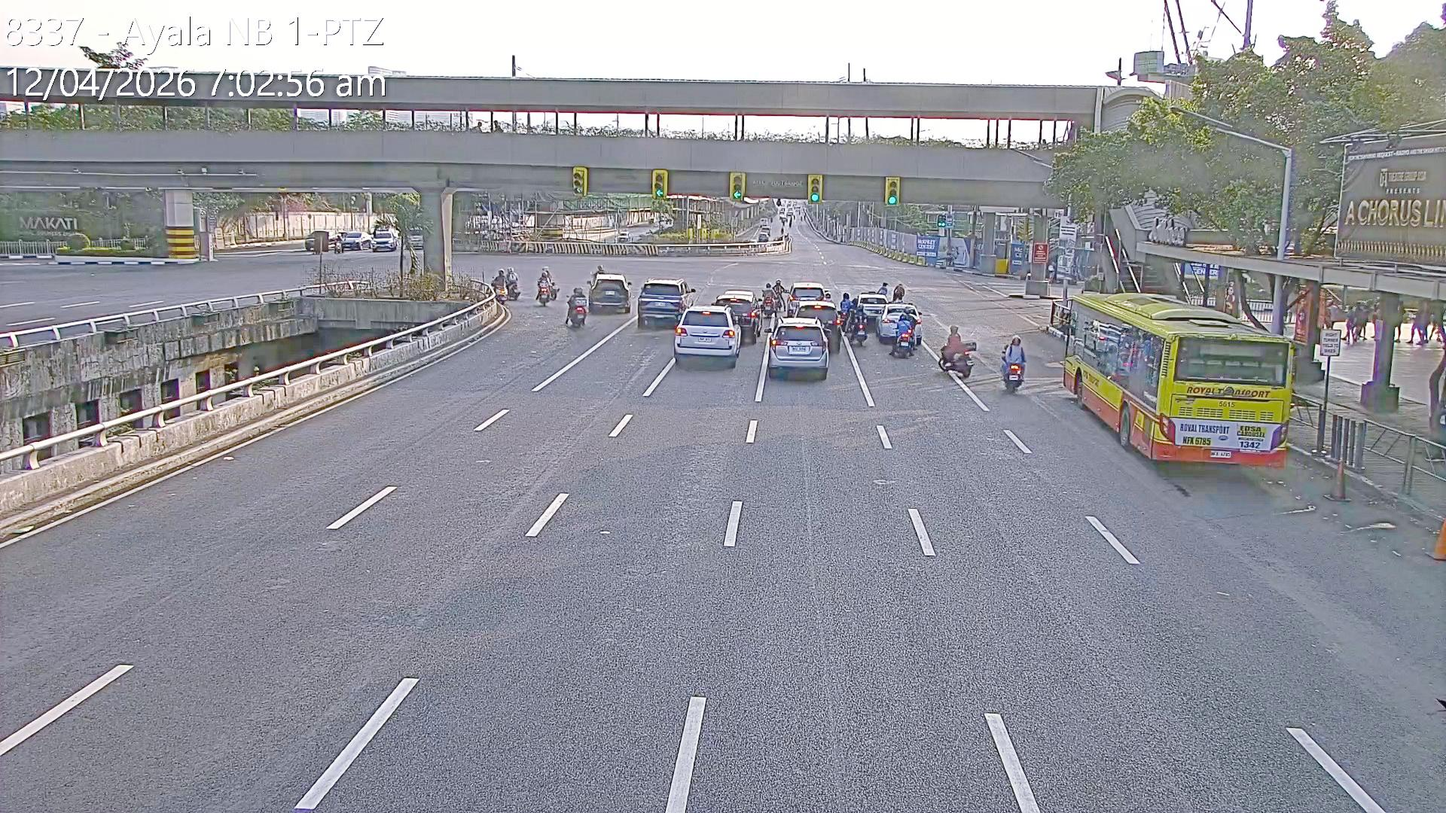Car: (673, 304, 742, 367), (766, 318, 832, 379), (633, 278, 688, 328), (711, 291, 761, 343), (792, 300, 842, 347), (587, 271, 633, 315), (876, 302, 923, 344), (788, 281, 831, 319), (856, 291, 890, 329), (305, 229, 341, 253), (371, 228, 401, 253), (335, 229, 369, 251)
Motor: (937, 324, 978, 378), (998, 338, 1026, 391), (898, 305, 921, 353), (889, 320, 918, 358), (564, 286, 590, 326), (488, 266, 511, 304), (853, 301, 869, 347), (762, 289, 783, 323), (505, 265, 524, 301), (535, 278, 557, 306), (838, 289, 852, 332), (770, 277, 788, 310), (535, 267, 552, 297)
Not Accident: (770, 280, 844, 375), (675, 291, 758, 369), (839, 287, 925, 356), (566, 261, 633, 329), (490, 259, 520, 301), (759, 278, 786, 323), (532, 263, 559, 306)
